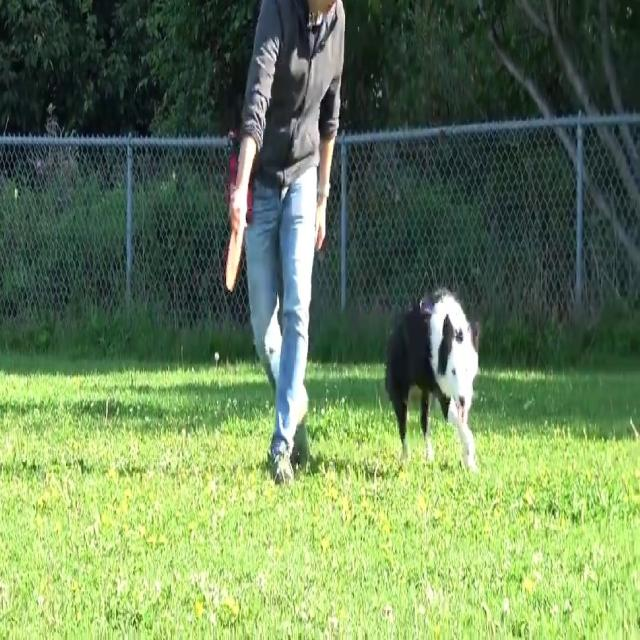Unleashed_Dog: (268, 188, 480, 472)
